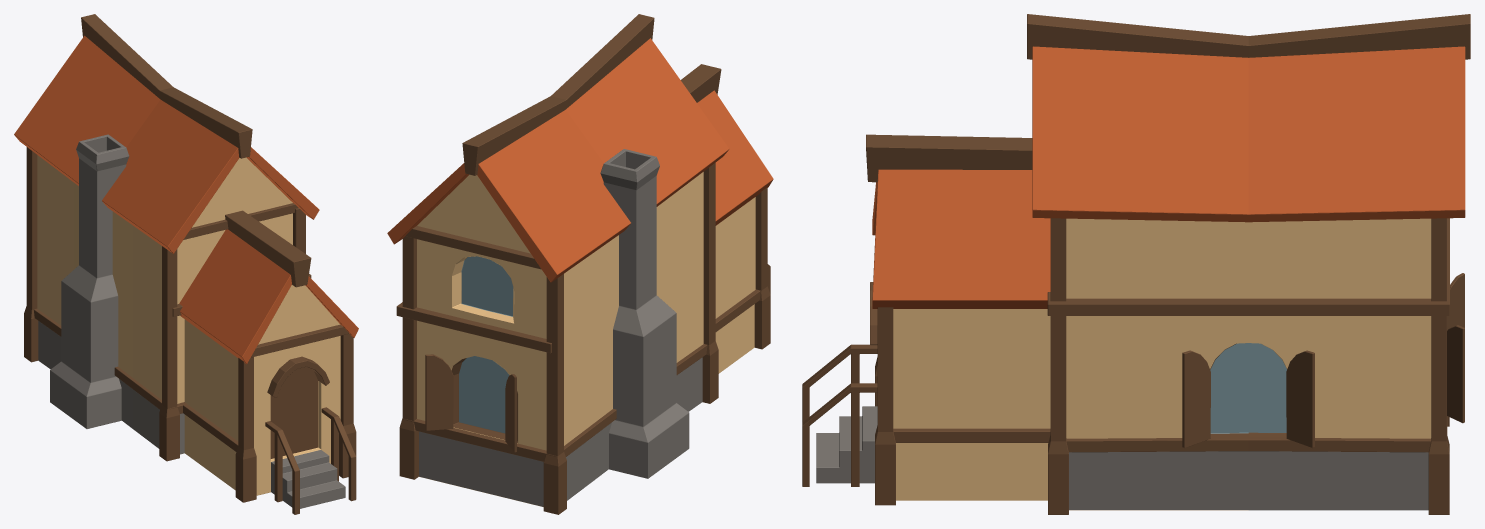
Rendered from Greed_house_3.fbx.
The picture shows the model from 3 angles, left to right: view 1: azimuth 30°, elevation 25°; view 2: azimuth 150°, elevation 25°; view 3: azimuth 270°, elevation 25°; orthographic projection. The views are drawn at different scales.
Visible parts, largest first — view 1: VillageHouse_1; view 2: VillageHouse_1; view 3: VillageHouse_1.
Boxes of the visible parts, x1=… form: VillageHouse_1: x1=14, y1=14, x2=358, y2=514; VillageHouse_1: x1=387, y1=14, x2=773, y2=514; VillageHouse_1: x1=802, y1=14, x2=1470, y2=514.
Size of the model in its own units: 4.58 by 7.85 by 10.61.
